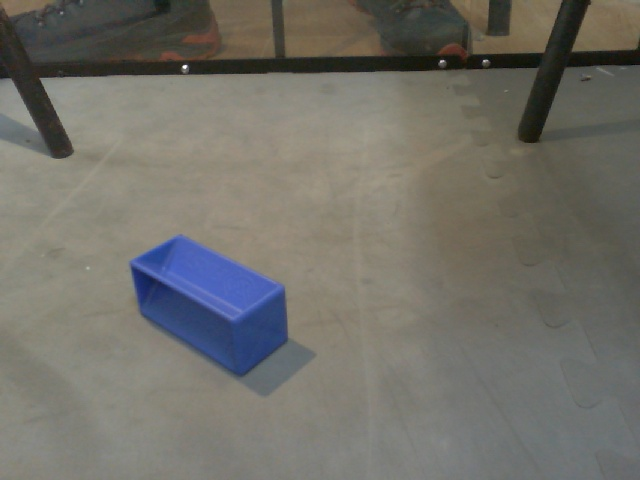BlueSample: (127, 229, 293, 382)
